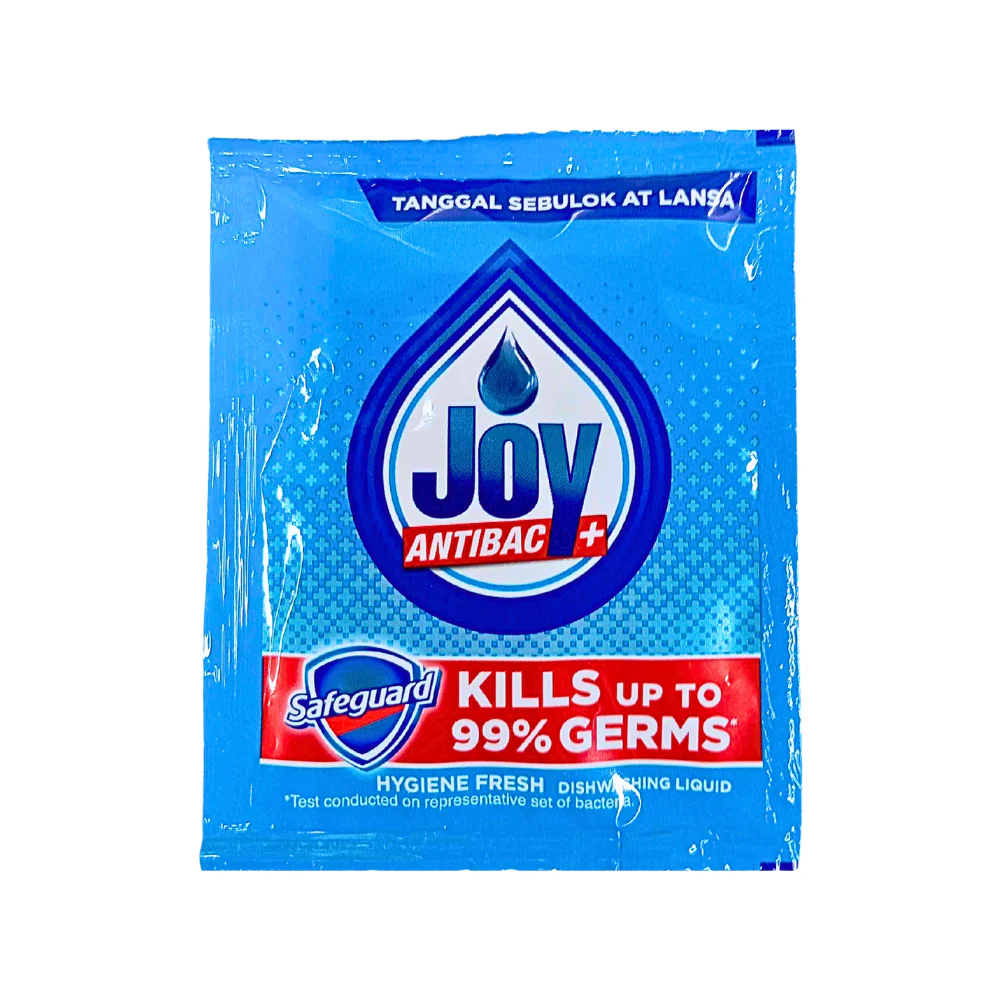toxic_waste: (213, 139, 805, 865)
